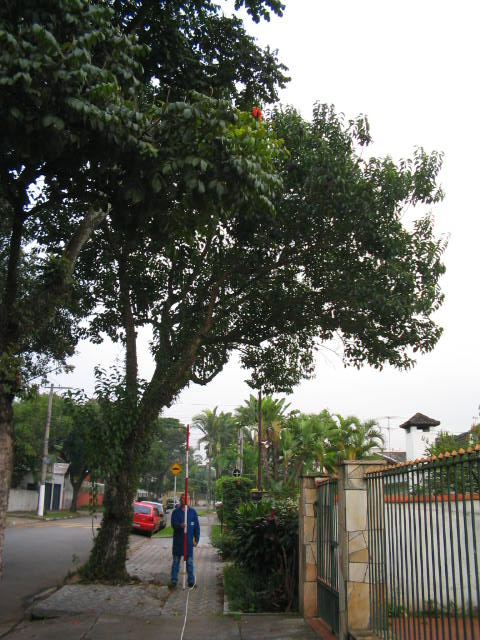crown: (44, 101, 445, 406)
stem: (71, 411, 163, 582)
stick: (176, 426, 193, 588)
tree: (41, 99, 446, 585)
